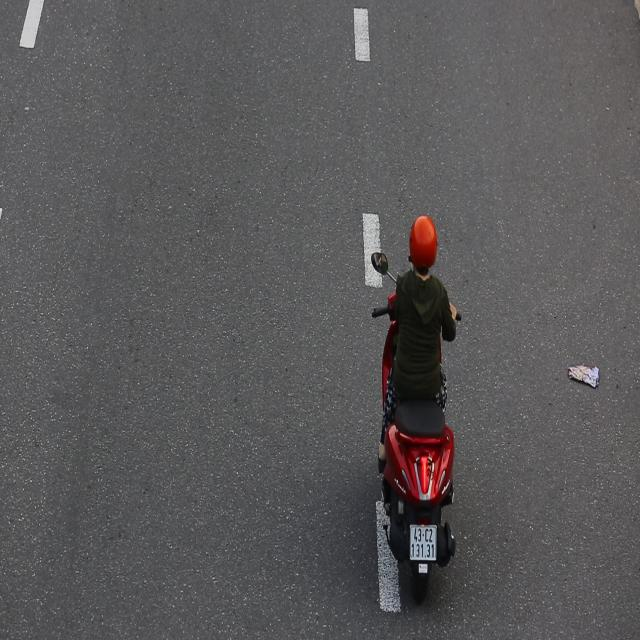motorbike: (371, 214, 472, 603)
